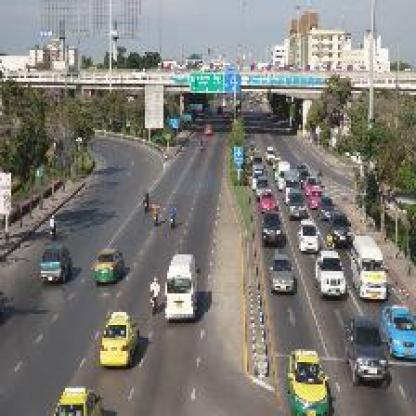other: (285, 342, 333, 405), (100, 297, 136, 368), (53, 377, 106, 411)
